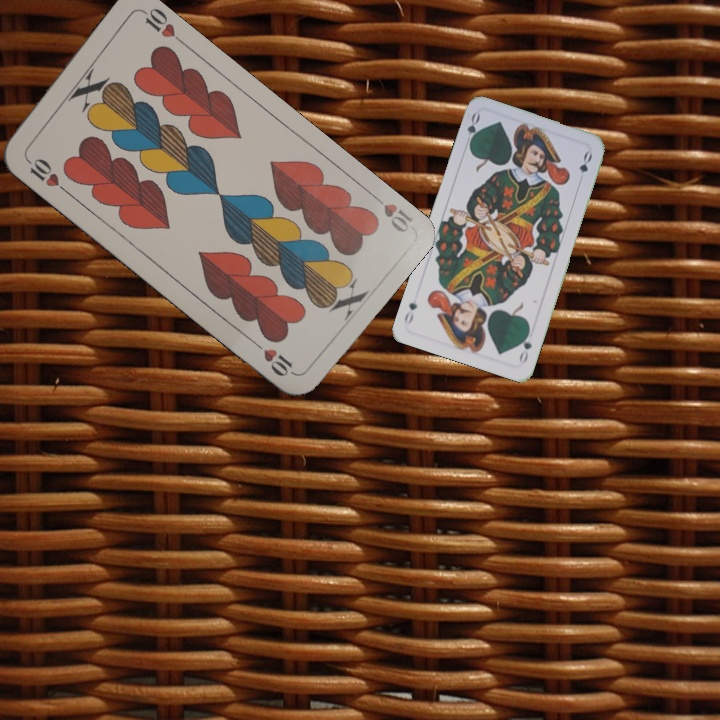GO: (461, 109, 483, 150), (515, 326, 534, 366)
H10: (366, 188, 416, 236), (21, 152, 70, 196)
